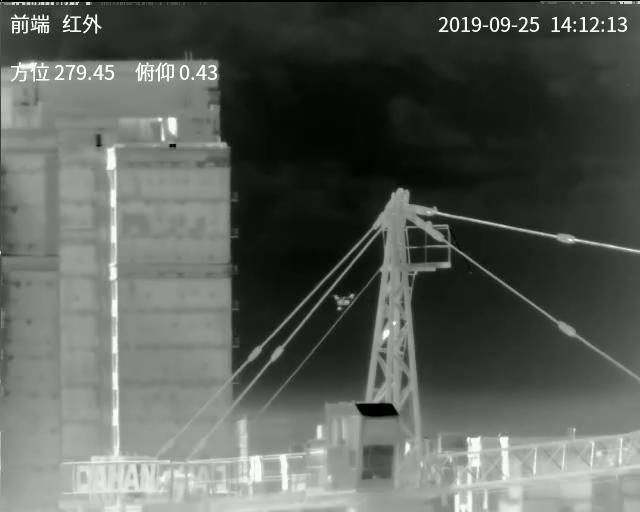uav: (332, 291, 356, 312)
